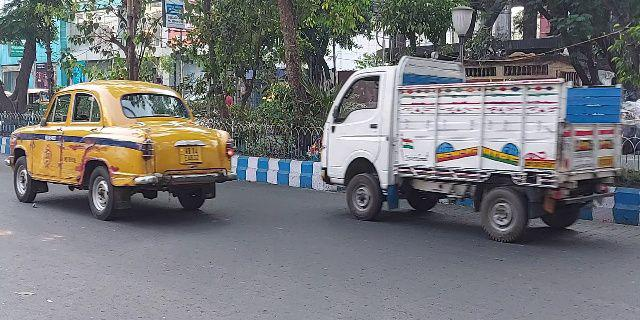Car: (7, 78, 236, 216)
Minitruck: (306, 55, 625, 242)
